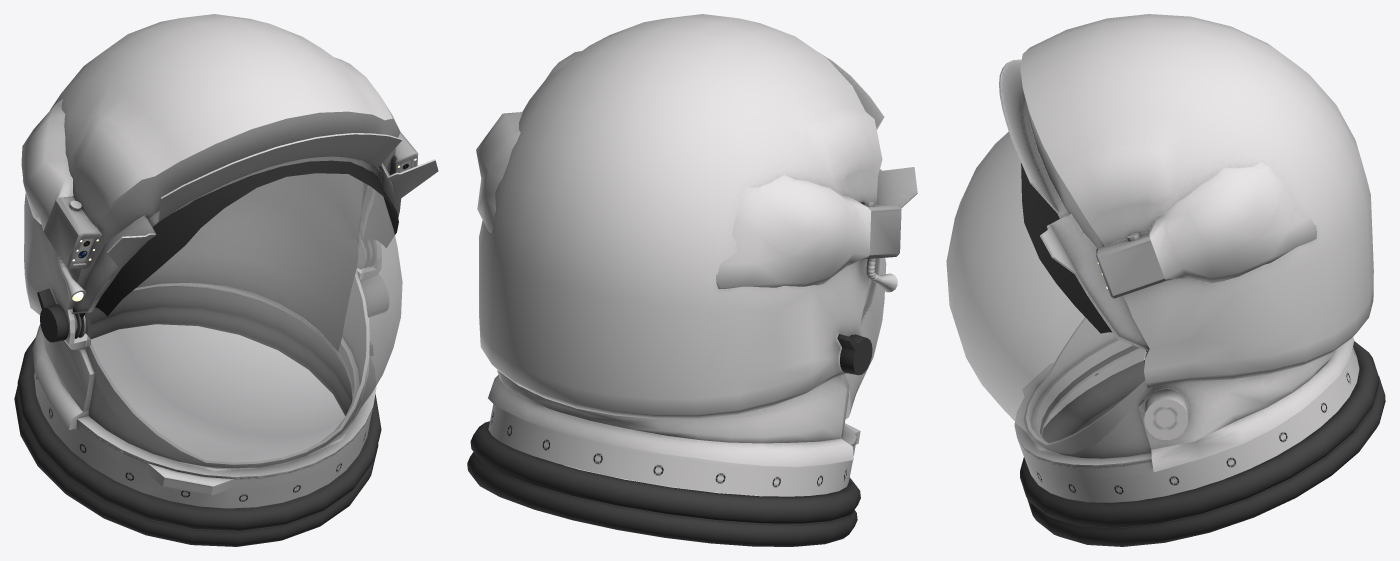
Rendered from astronaut_helmet.glb.
3 renders of one model, left to right at view 1: azimuth 30°, elevation 25°; view 2: azimuth 150°, elevation 25°; view 3: azimuth 270°, elevation 25°, orthographic. The views are drawn at different scales.
Visible parts, largest first — view 1: Helmet-Body, Black-one_Standard_14_0; view 2: Helmet-Body; view 3: Helmet-Body, Black-one_Standard_14_0.
Part boxes in pixels (box(x1,y1,x2,y2)): Helmet-Body: box(14, 14, 438, 546); Black-one_Standard_14_0: box(79, 160, 398, 318); Helmet-Body: box(467, 14, 917, 546); Helmet-Body: box(946, 14, 1385, 546); Black-one_Standard_14_0: box(1021, 163, 1147, 351).
Size of the model in its own units: 29.92 by 37.87 by 31.84.
Materials: 3 (2 with a texture image).
